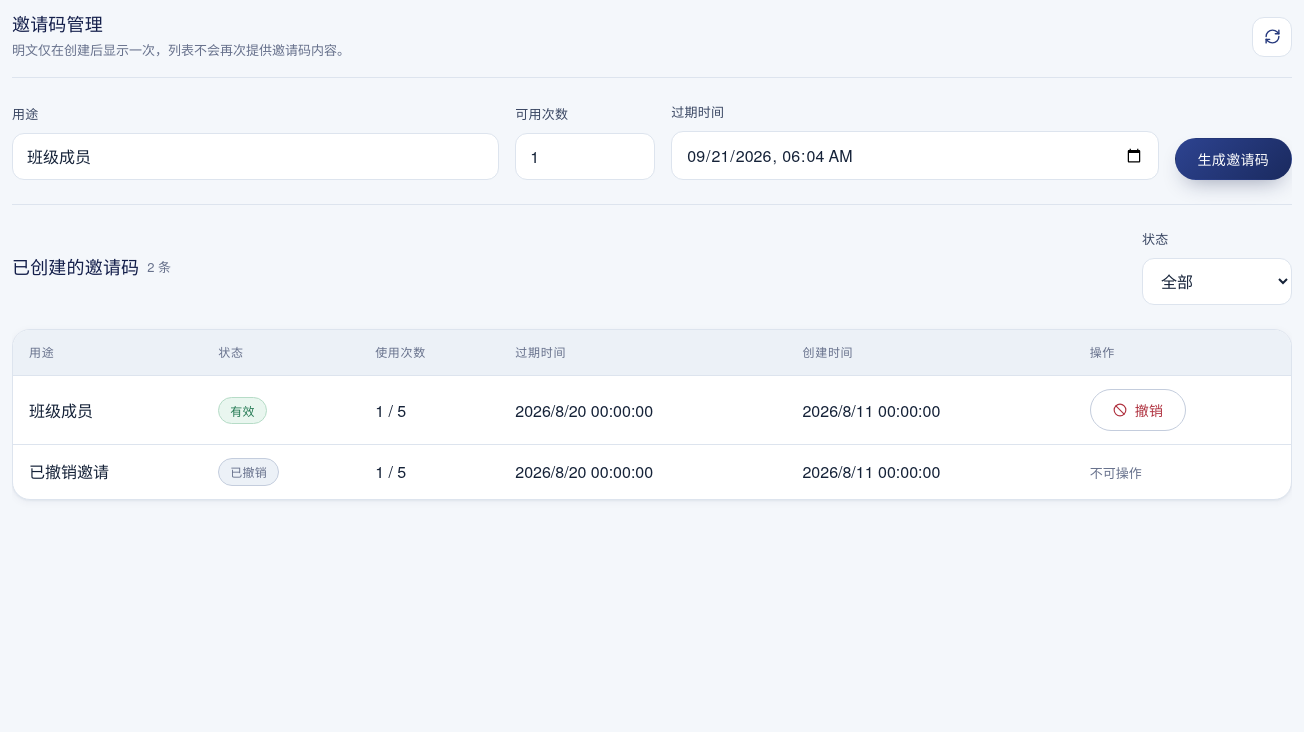
Test case: AdminInvites › lists invite metadata without ever rendering invite plaintext
This screenshot has width=1304, height=732.
Select "已撤销" in the dropdown with id "invite-state" at (1217, 282), box [1142, 258, 1292, 305]
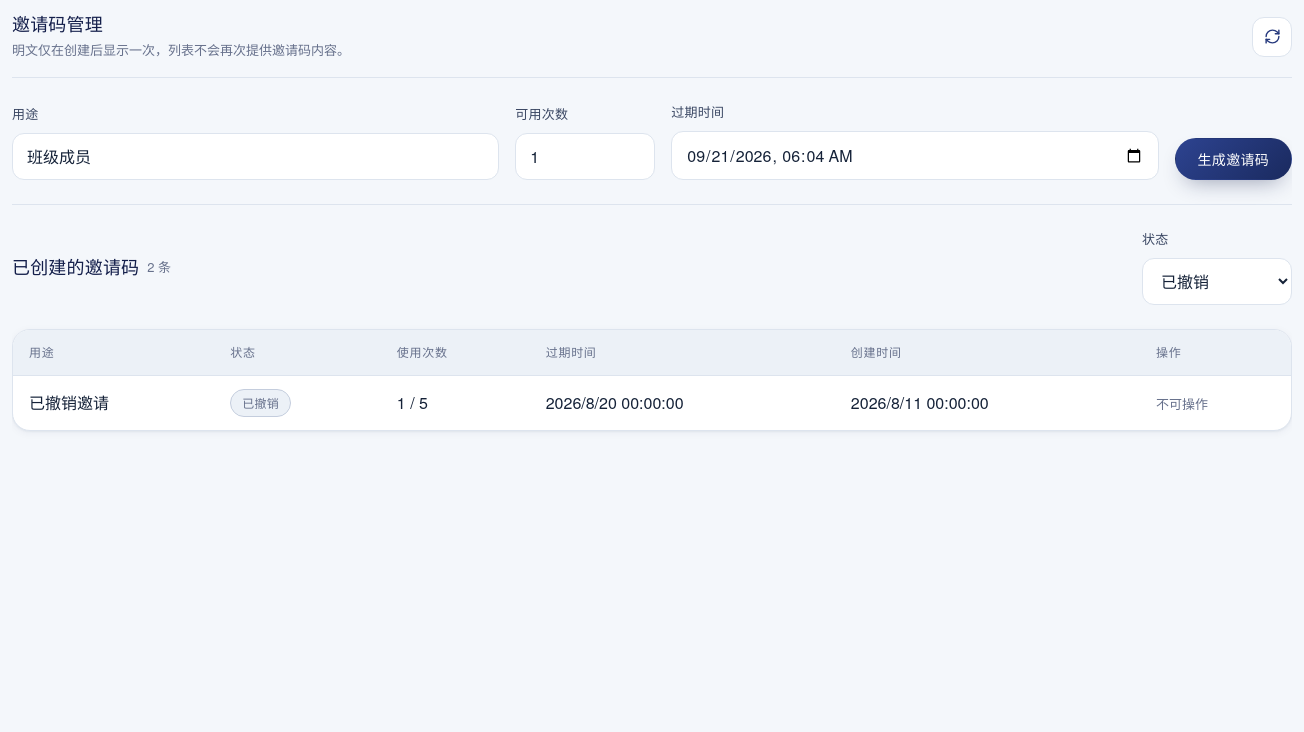
Expected: the text "已撤销邀请" is shown, [13, 376, 214, 430]
Result: the text "班级成员" is gone
